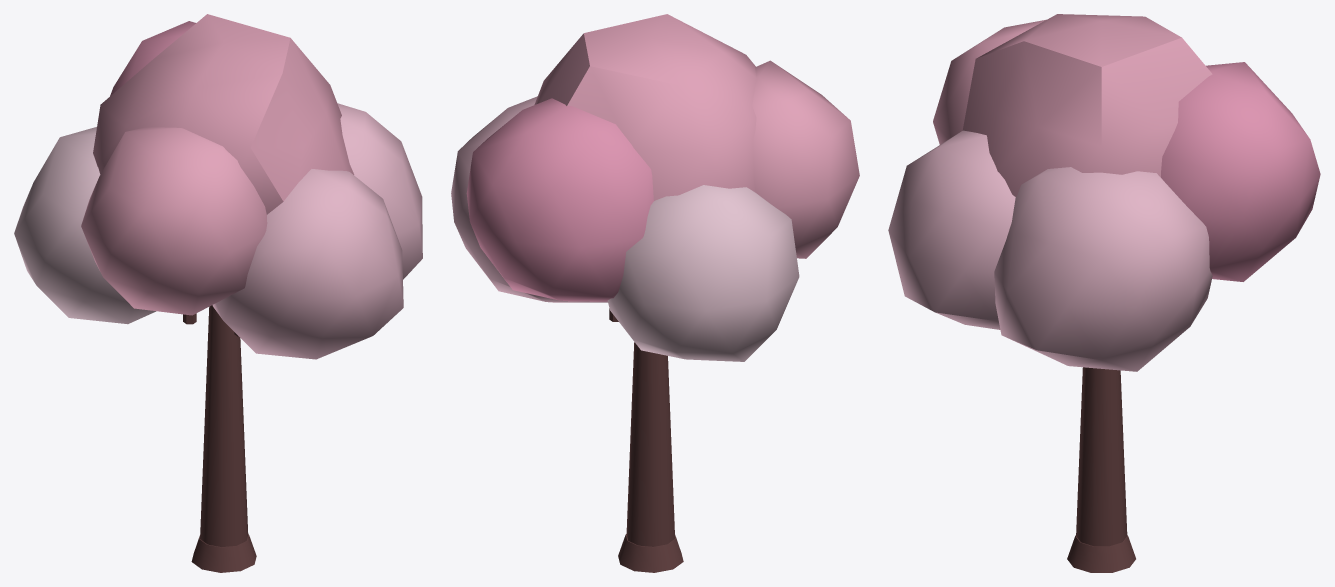
Rendered from sakura_0.glb.
3 renders of one model, left to right at view 1: azimuth 30°, elevation 25°; view 2: azimuth 150°, elevation 25°; view 3: azimuth 270°, elevation 25°, orthographic. The views are drawn at different scales.
Visible parts, largest first — view 1: sakura; view 2: sakura; view 3: sakura.
Part boxes in pixels (x1,y1,x2,y2): sakura: (14,14,422,572); sakura: (451,14,859,572); sakura: (888,14,1320,572).
Size of the model in its own units: 4.06 by 5.83 by 4.24.
